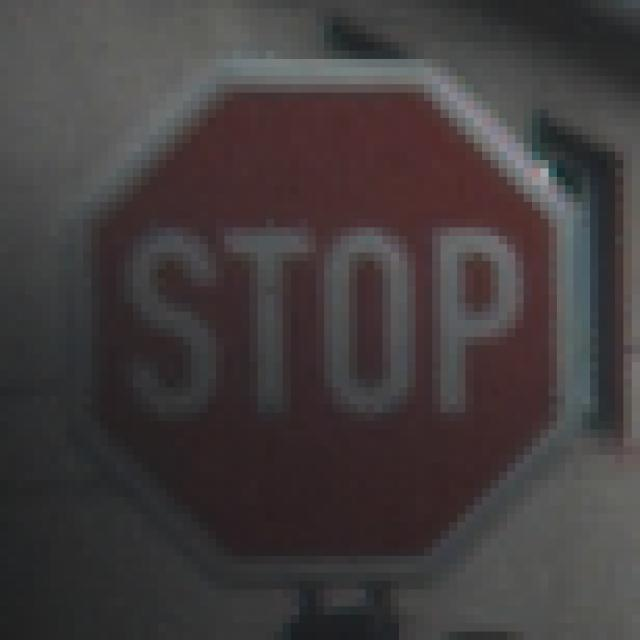STOP: (59, 52, 591, 591)
